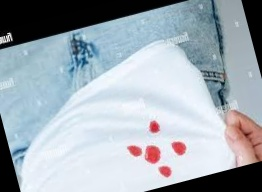blood: (142, 143, 163, 165), (171, 139, 188, 157), (127, 143, 144, 159), (158, 164, 173, 179), (148, 120, 161, 134)
